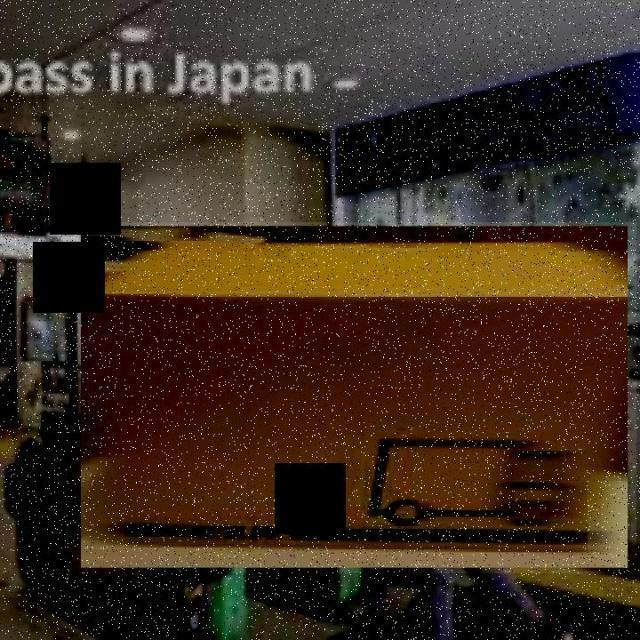box: (73, 222, 636, 574)
